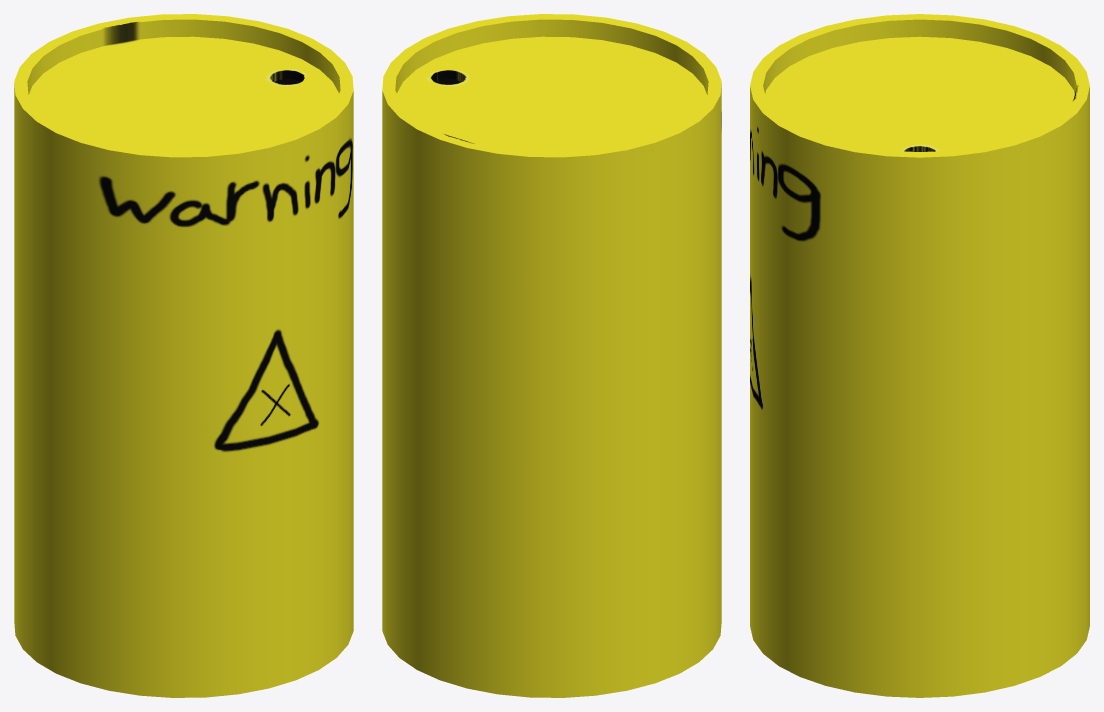
File: Toxic Barrel.gltf
3 views of the same model, side by side, from view 1: azimuth 30°, elevation 25°; view 2: azimuth 150°, elevation 25°; view 3: azimuth 270°, elevation 25° (orthographic).
Parts seen in each view (by area): view 1: Cylinder; view 2: Cylinder; view 3: Cylinder.
Part boxes in pixels (x1,y1,x2,y2): Cylinder: [14, 14, 353, 697]; Cylinder: [382, 14, 721, 697]; Cylinder: [750, 14, 1089, 697].
Bounding box in the file's own units: 0.6172 × 1.08 × 0.6172.
Materials: 1 (1 with a texture image).
